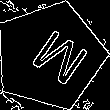M_SW: (15, 22, 85, 90)
